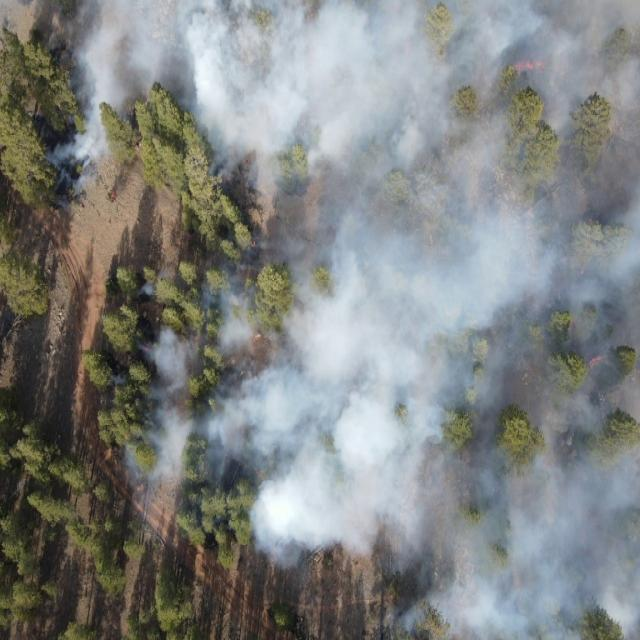fire: (513, 57, 548, 75), (587, 356, 610, 368), (567, 318, 574, 337), (109, 190, 118, 200), (250, 240, 258, 250), (143, 344, 150, 354), (164, 410, 174, 416)
smoke: (388, 0, 640, 640), (236, 0, 388, 565), (44, 0, 236, 105), (122, 313, 191, 491), (190, 265, 237, 493), (42, 104, 119, 207), (188, 104, 236, 180), (142, 271, 172, 300)
